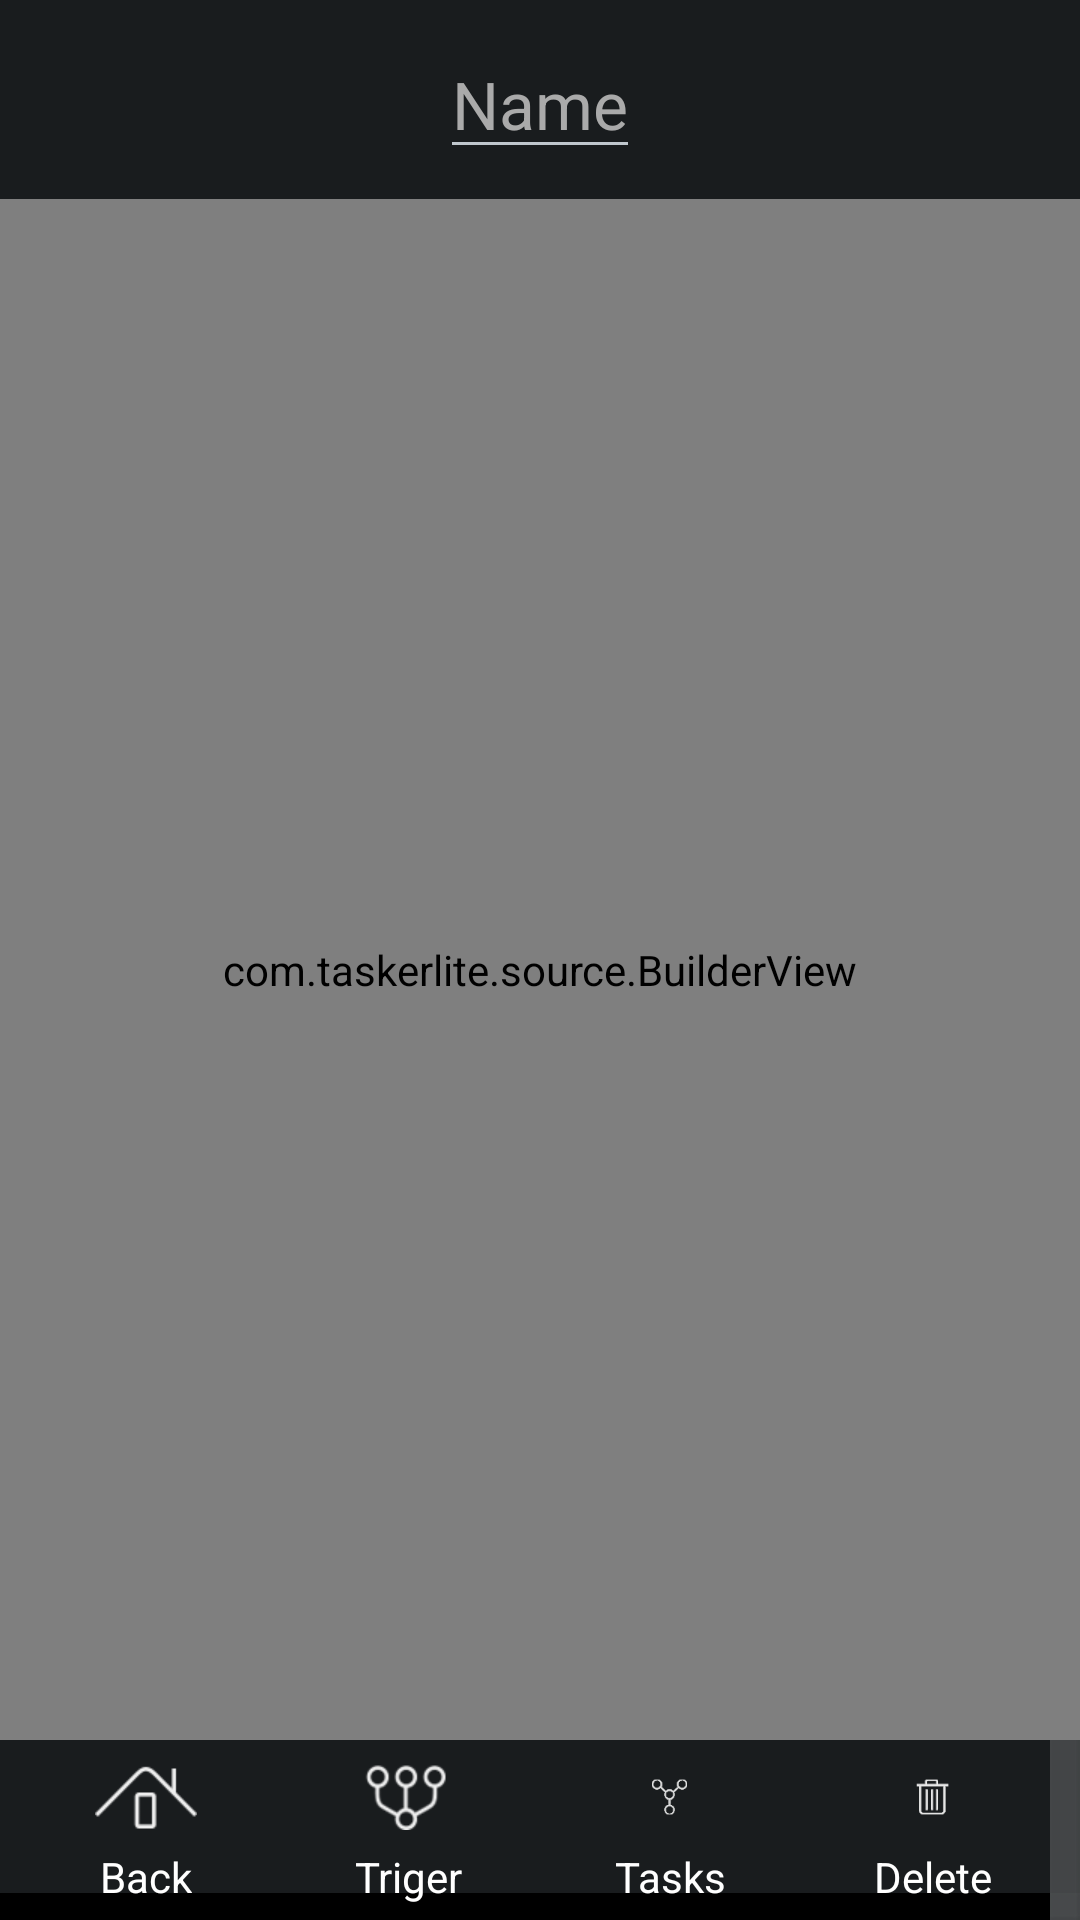

Locate icon controls on the screen. Image size 1080w x 1920h, boxes as (x1=x1, y1=y1, x2=x2, y2=y2).
home: (x1=95, y1=1766, x2=197, y2=1829)
